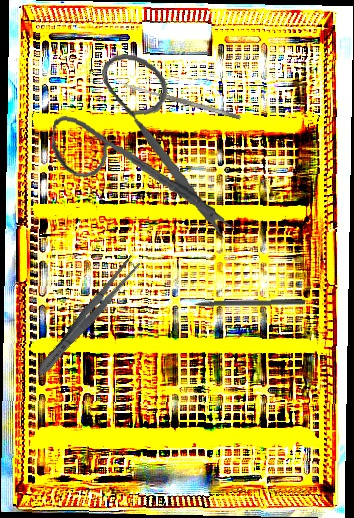Dressing Forceps: (31, 252, 144, 381)
Hook Surgical: (179, 297, 306, 308)
Iris Scissors: (43, 47, 251, 242)
Spatula Surgical: (122, 81, 242, 121)
